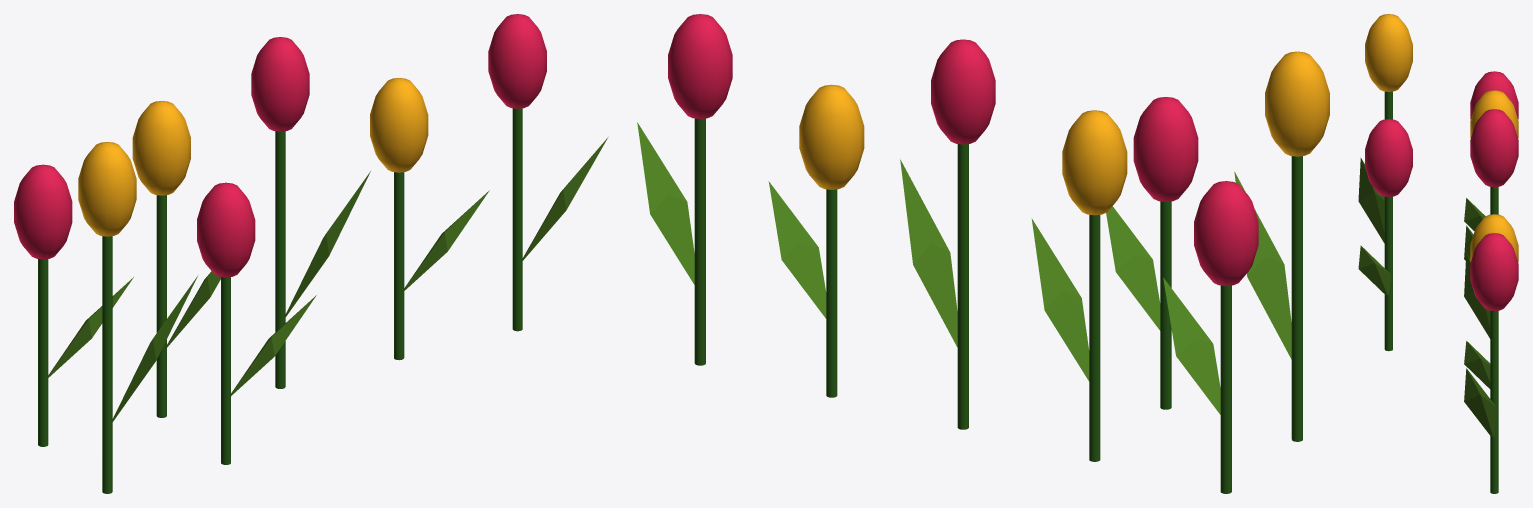
The model's file is Tulipanok.obj.
3 renders of one model, left to right at view 1: azimuth 30°, elevation 25°; view 2: azimuth 150°, elevation 25°; view 3: azimuth 270°, elevation 25°, orthographic. The views are drawn at different scales.
Size of the model in its own units: 0.7741 by 0.45 by 0.2273.
